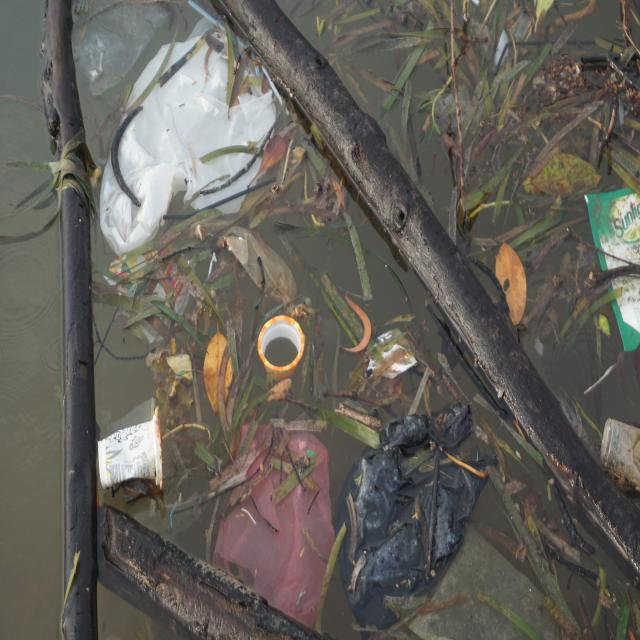Bungkus Minuman: (98, 410, 165, 496), (253, 311, 310, 384), (595, 413, 640, 496)
Kantong Plastik: (100, 32, 276, 252), (340, 399, 493, 618), (214, 418, 338, 635), (77, 1, 173, 95)
